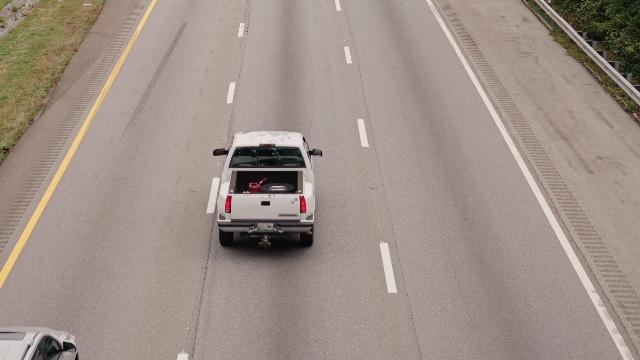pickup-truck: (206, 127, 326, 251)
